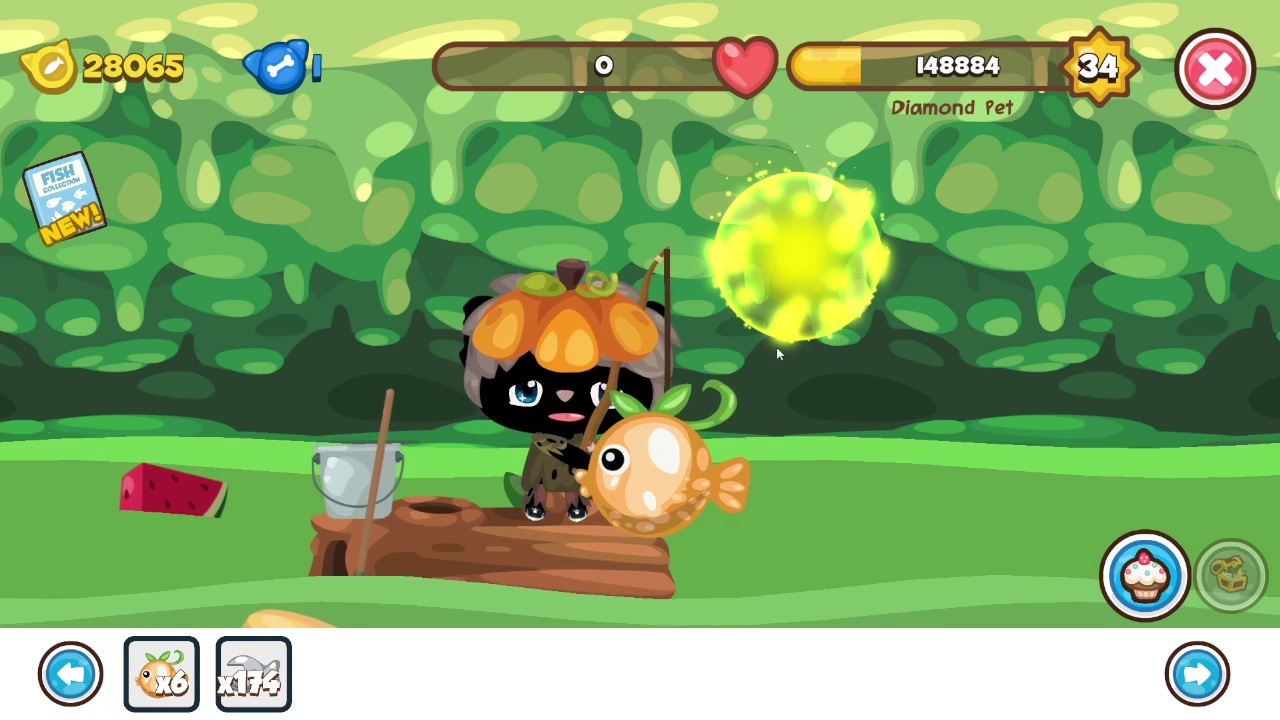point: (712, 169, 889, 343)
